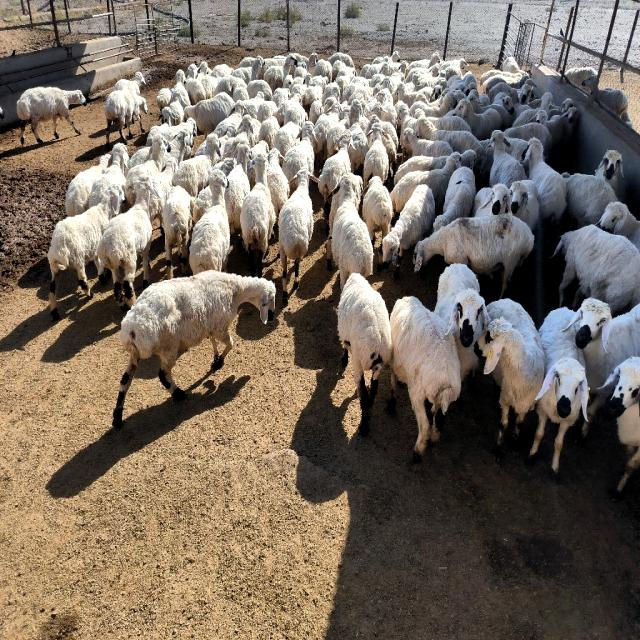sheep: (112, 270, 275, 426), (388, 297, 460, 461), (474, 298, 545, 456), (530, 308, 589, 474), (414, 215, 534, 296), (48, 188, 121, 319), (566, 298, 640, 419), (338, 273, 391, 434), (98, 175, 161, 310), (554, 225, 640, 315), (435, 263, 490, 381), (278, 170, 318, 302), (602, 357, 640, 492), (331, 173, 374, 288), (382, 185, 435, 278), (240, 155, 276, 278), (189, 168, 230, 274), (390, 153, 461, 214), (16, 87, 86, 144), (525, 138, 566, 222), (416, 117, 484, 164), (125, 133, 168, 206), (172, 133, 221, 197), (562, 173, 618, 228), (65, 153, 111, 217), (162, 185, 192, 278), (319, 133, 351, 216), (434, 167, 475, 231), (89, 143, 129, 208), (282, 122, 316, 194), (105, 90, 148, 146), (225, 142, 251, 232), (150, 157, 178, 232), (452, 98, 502, 140), (184, 92, 235, 133), (490, 130, 526, 188), (362, 177, 392, 244), (600, 203, 640, 251), (504, 122, 552, 162), (266, 148, 290, 218), (364, 123, 389, 186), (348, 100, 369, 175), (510, 180, 539, 231), (394, 157, 448, 184), (404, 128, 452, 157), (314, 102, 340, 155), (471, 183, 511, 217), (595, 150, 624, 193), (224, 115, 251, 158), (274, 122, 300, 157), (166, 130, 190, 162), (259, 115, 280, 148), (114, 72, 145, 94), (129, 148, 151, 168)
